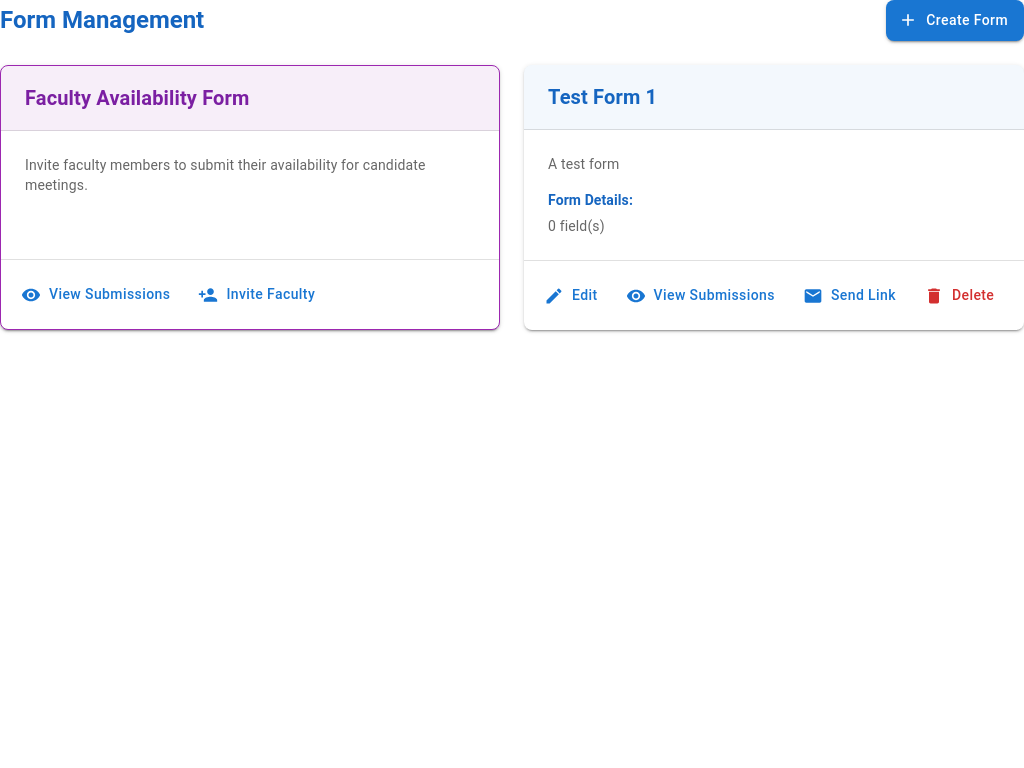
Test case: FormManagement › opens Edit Form dialog with correct data
The image size is (1024, 768).
Expected: the heading "Test Form 1" is shown, x1=548 y1=84 x2=657 y2=108
Step 1. Click the button "Edit" → (573, 296), box x1=540 y1=277 x2=606 y2=314
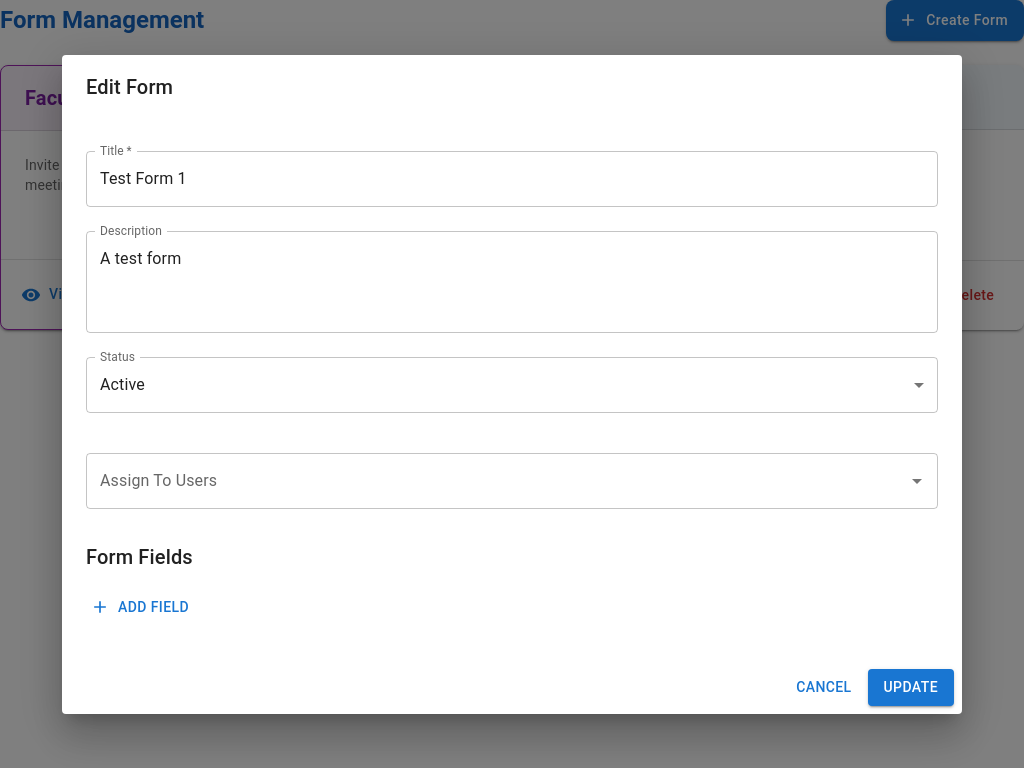
Now the heading "Edit Form" is shown, box x1=86 y1=74 x2=173 y2=98
Now the field showing "Test Form 1" is shown, box x1=86 y1=150 x2=938 y2=206
